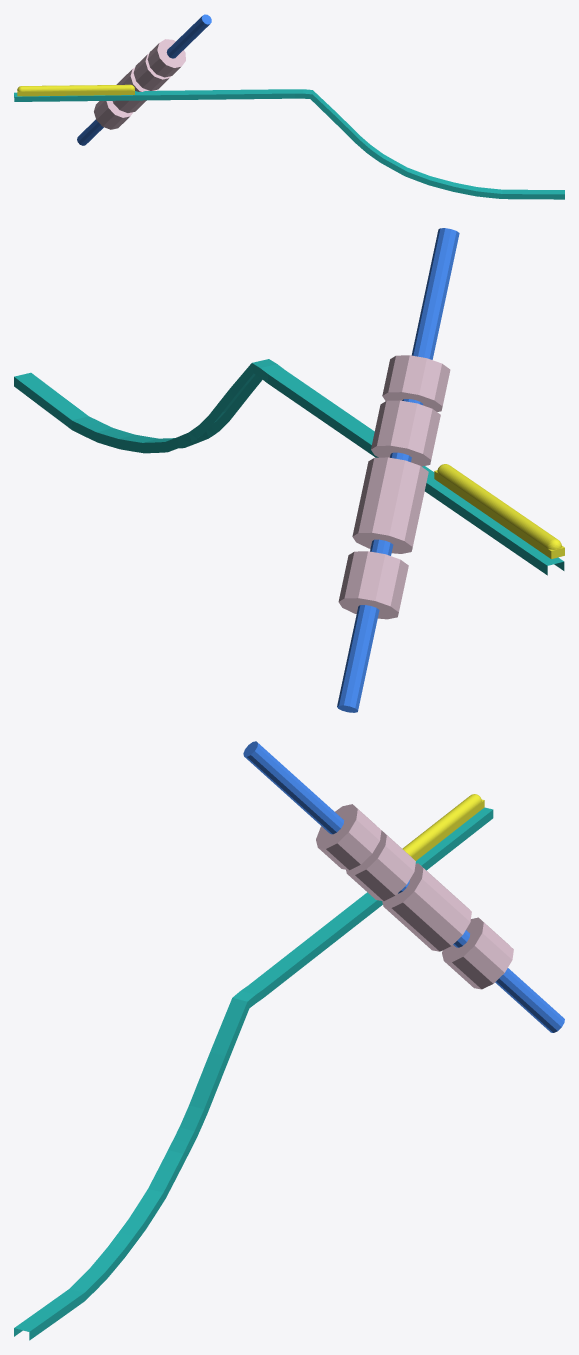
Rendered from tile_247.glb.
The picture shows the model from 3 angles, top to bottom: view 1: azimuth 30°, elevation 25°; view 2: azimuth 150°, elevation 25°; view 3: azimuth 270°, elevation 25°; orthographic projection. The views are drawn at different scales.
Bounding box in the file's own units: 5.16 × 2.39 × 3.4.
